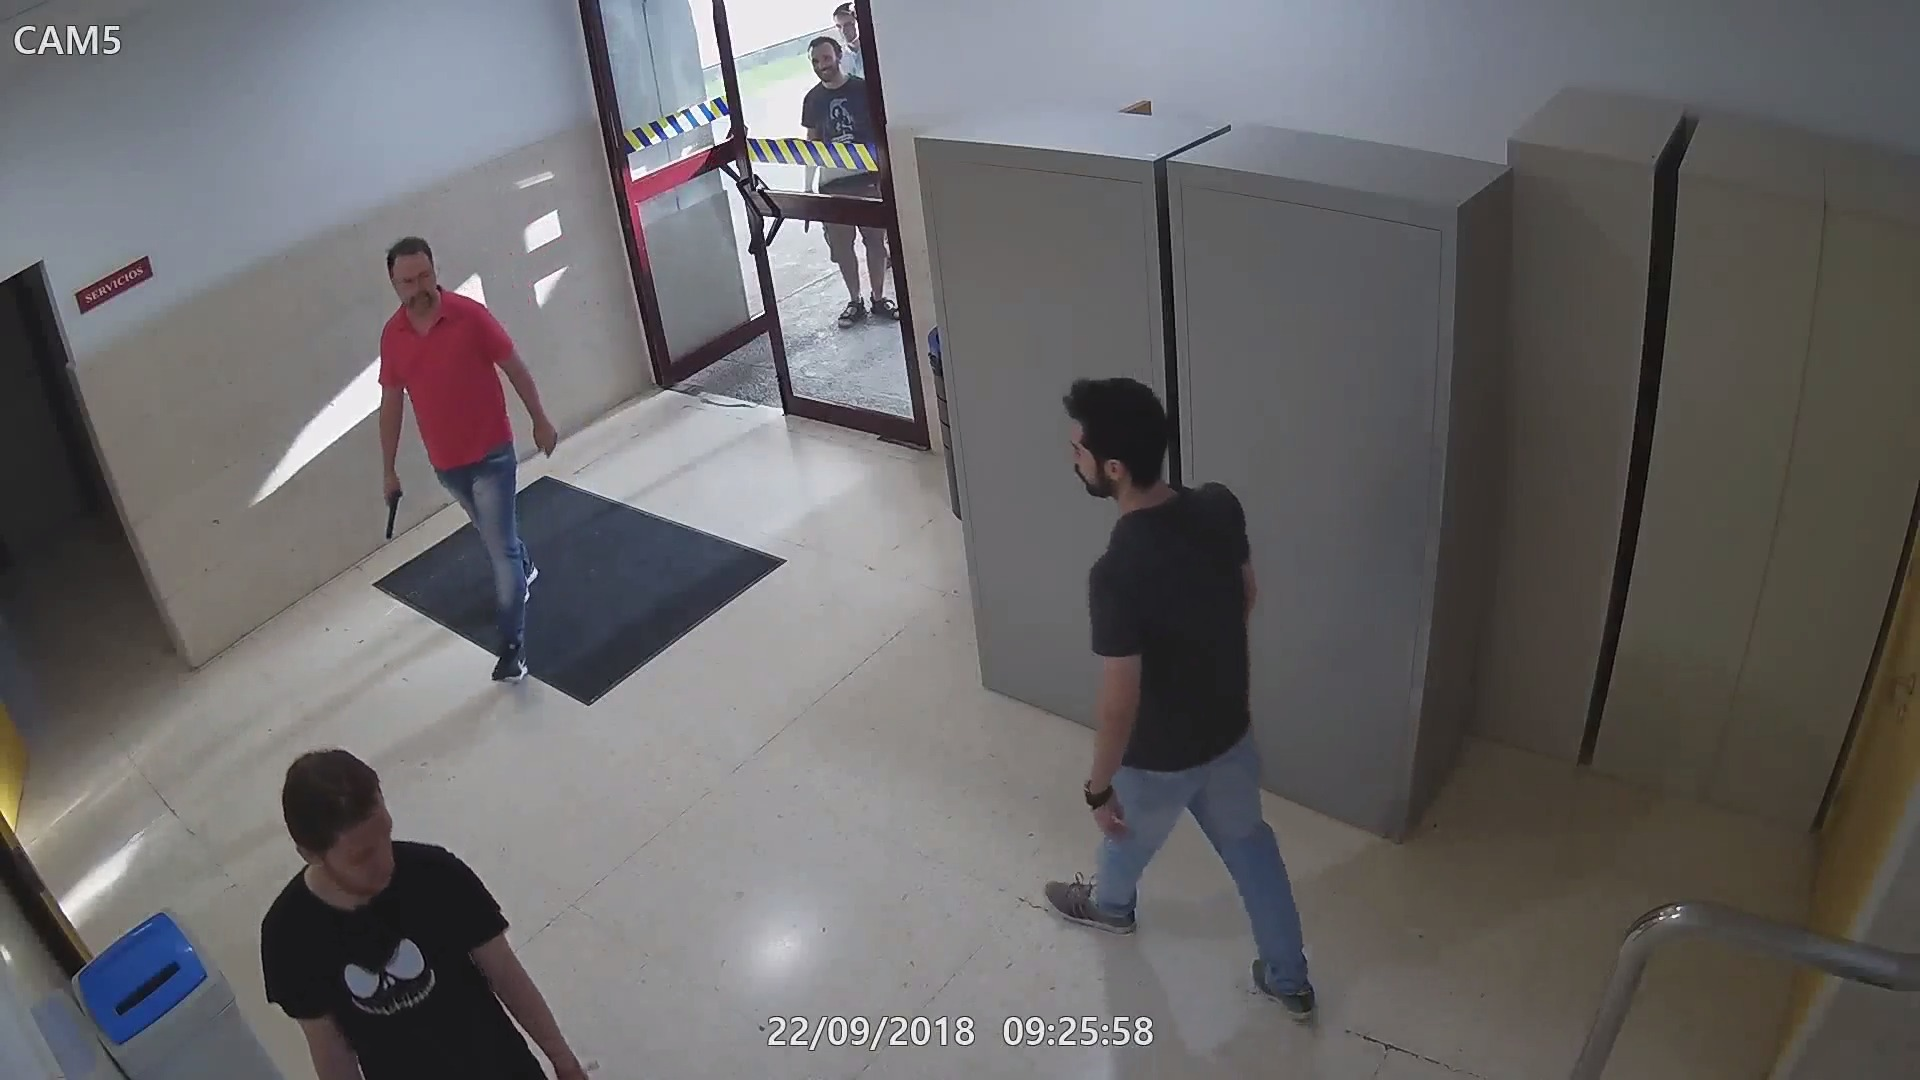Handgun: (380, 469, 407, 543)
